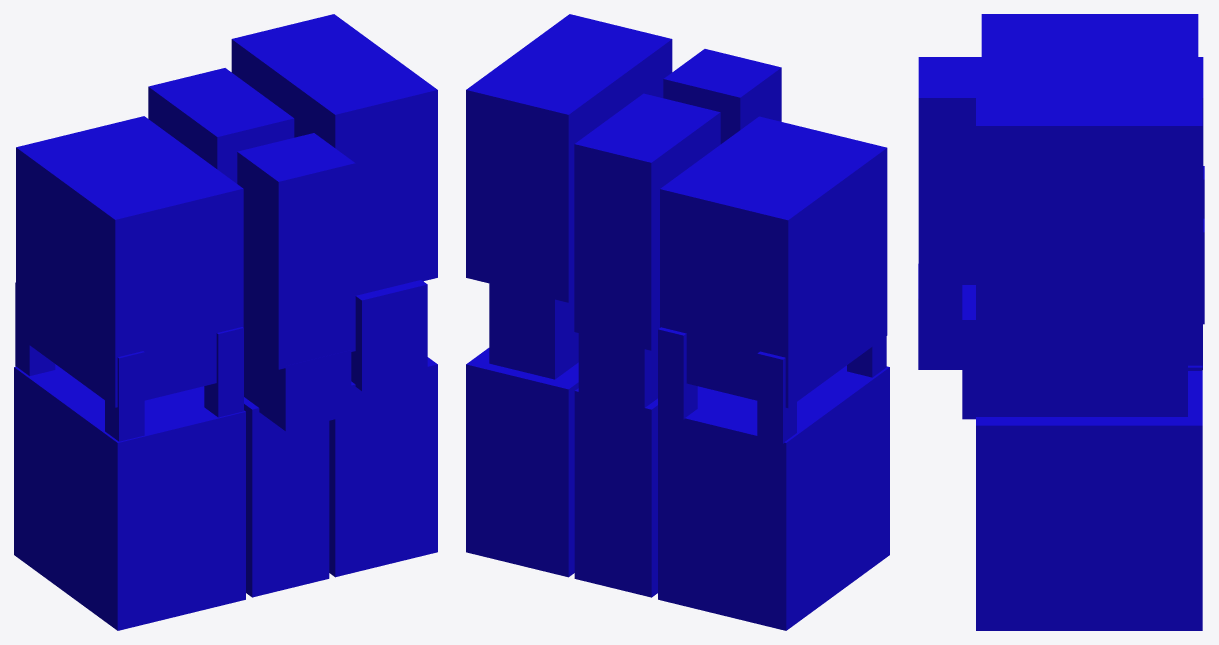
The model's file is MetalSlumBldg.fbx.
3 views of the same model, side by side, from view 1: azimuth 30°, elevation 25°; view 2: azimuth 150°, elevation 25°; view 3: azimuth 270°, elevation 25° (orthographic). The views are drawn at different scales.
Parts seen in each view (by area): view 1: Cube.009; view 2: Cube.009; view 3: Cube.009.
Boxes of the visible parts, <box> form: Cube.009: <box>14,14,437,630</box>; Cube.009: <box>466,14,889,630</box>; Cube.009: <box>918,14,1204,630</box>.
Size of the model in its own units: 2496 by 3449 by 1770.
